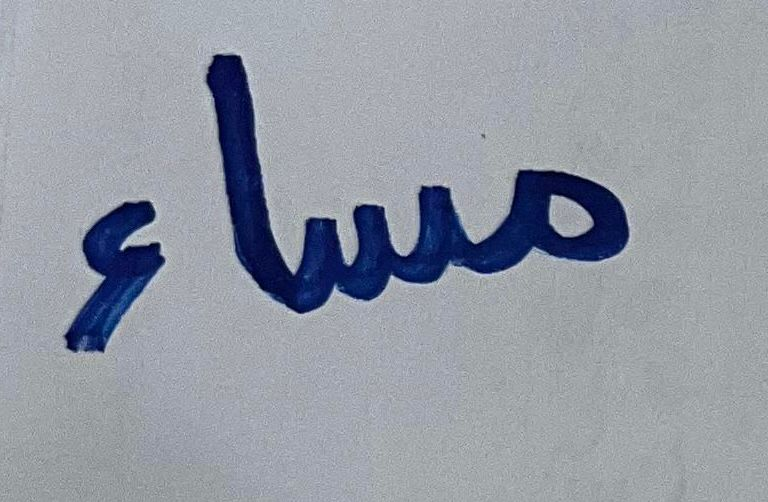alef: (191, 34, 290, 332)
khah: (40, 181, 181, 378)
meem: (487, 139, 642, 295)
seen: (297, 160, 473, 329)
